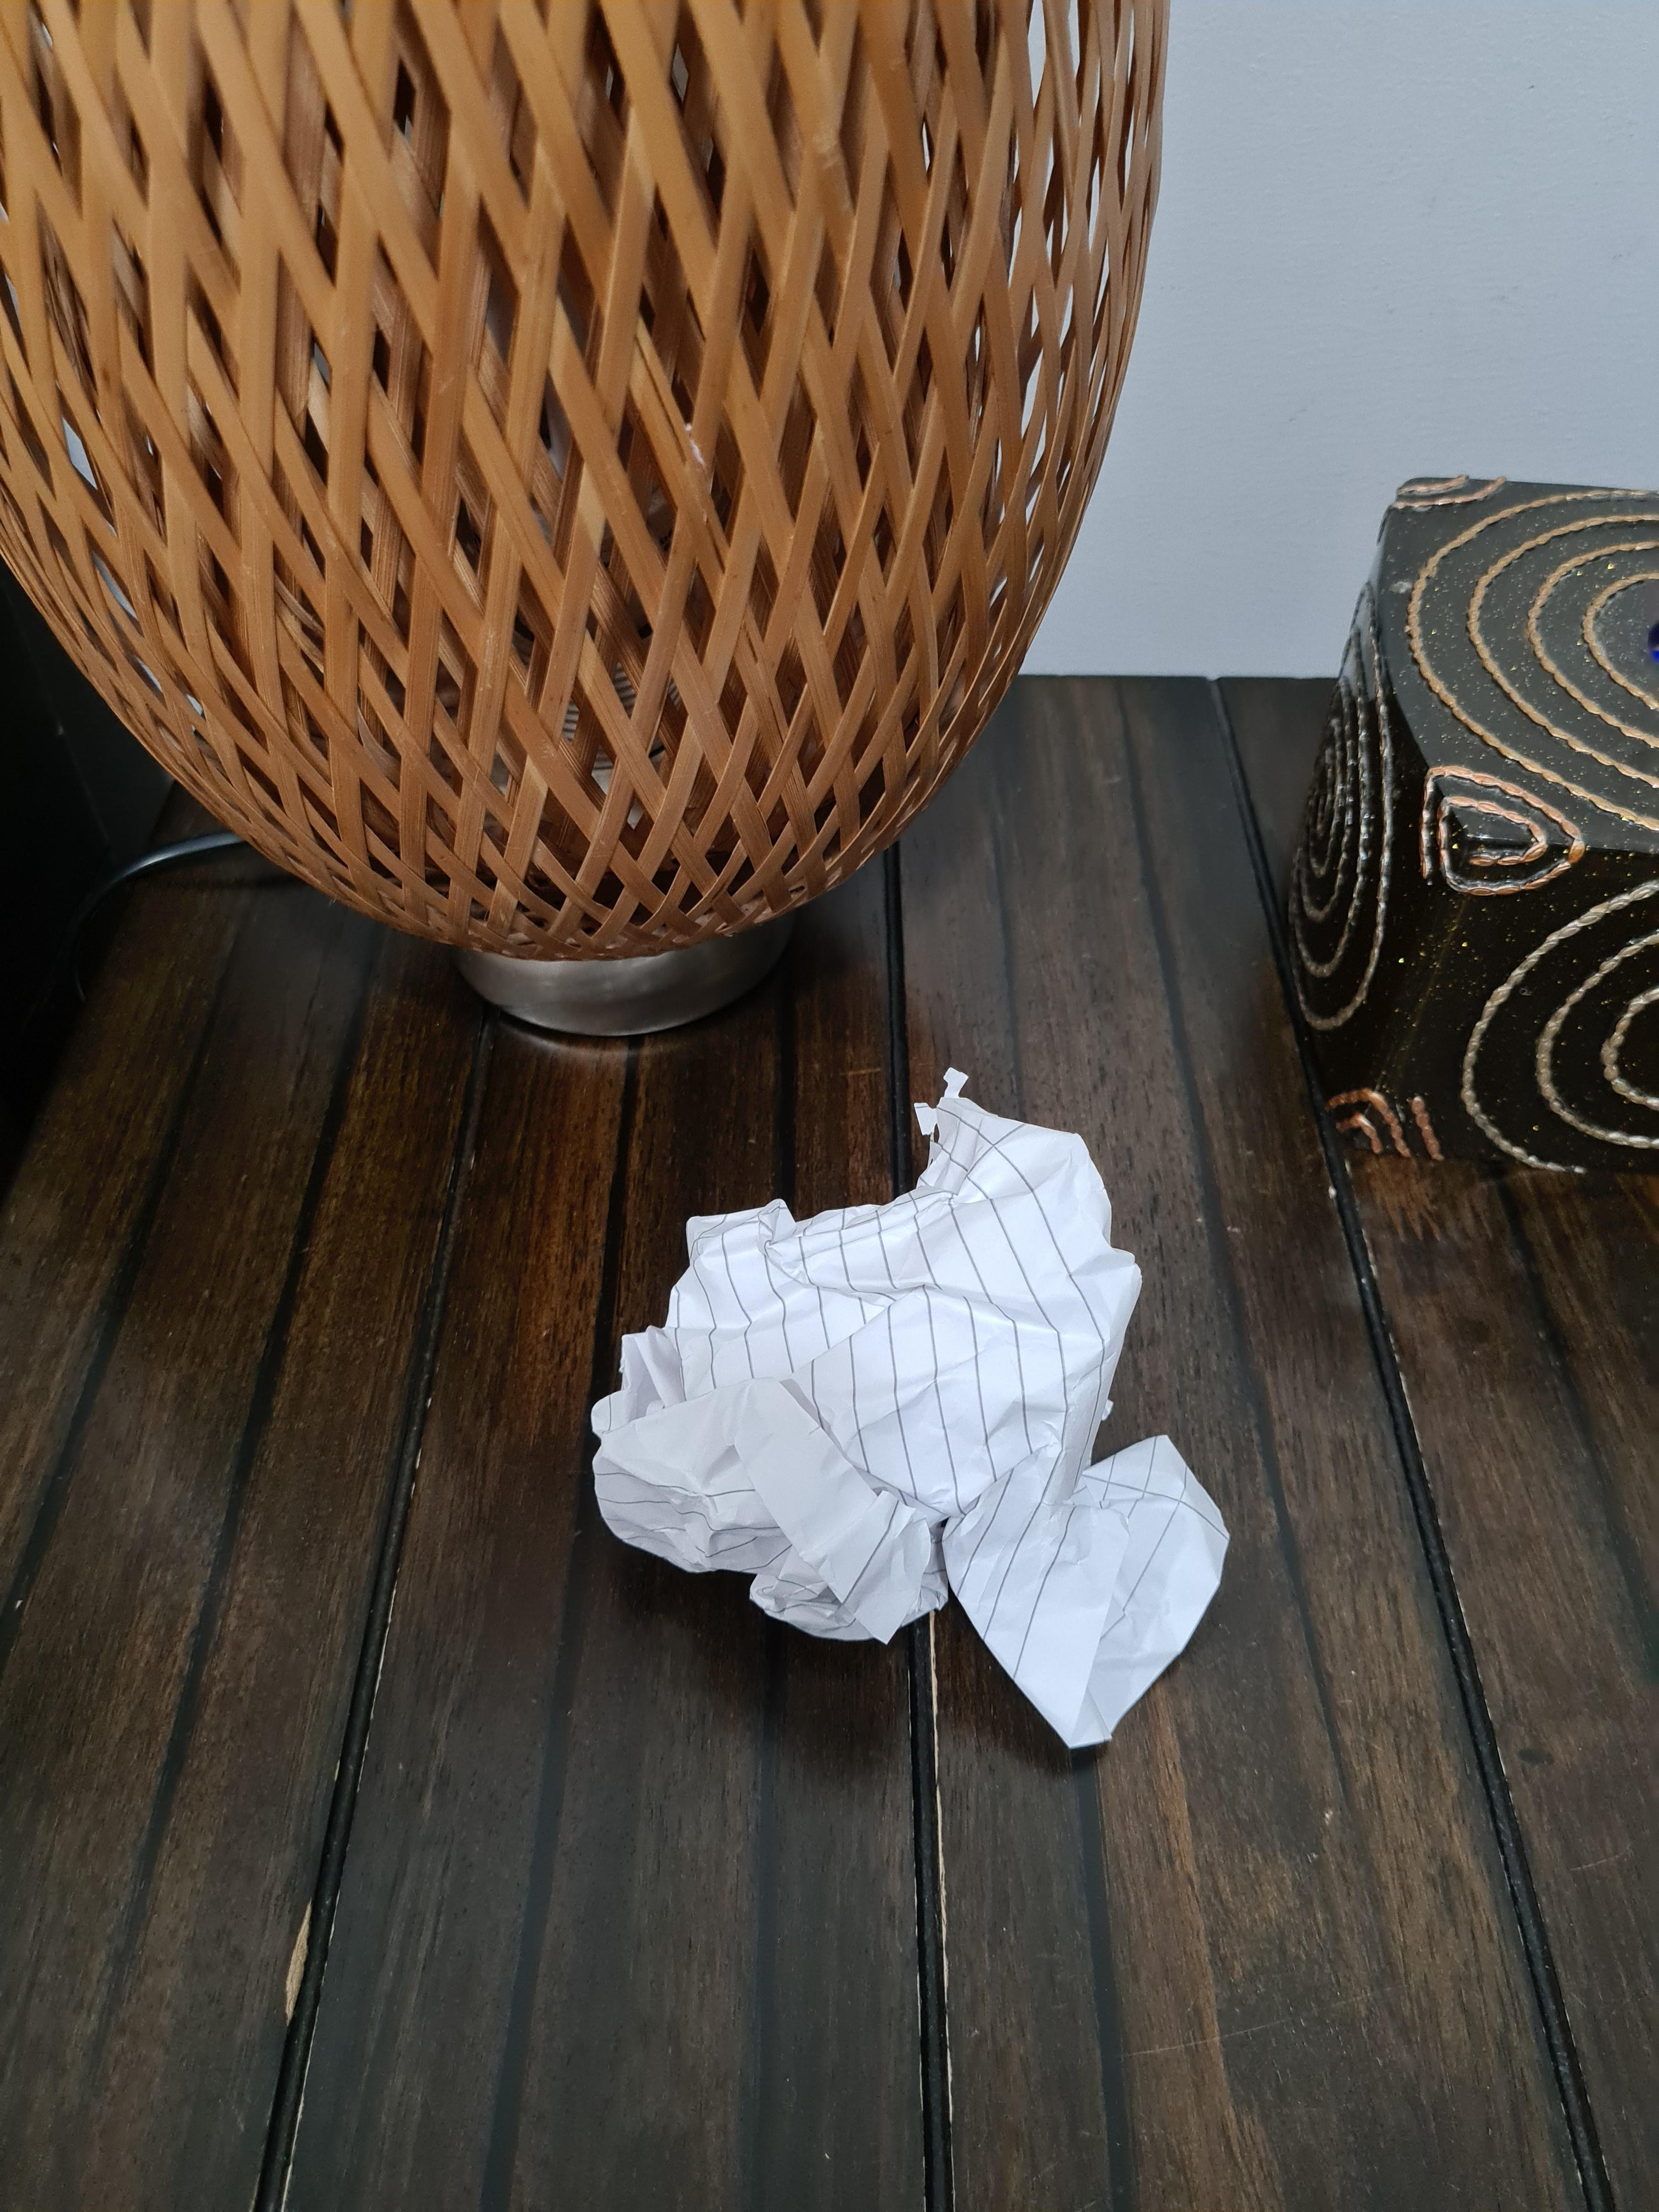Paper: (600, 1076, 1235, 1757)
